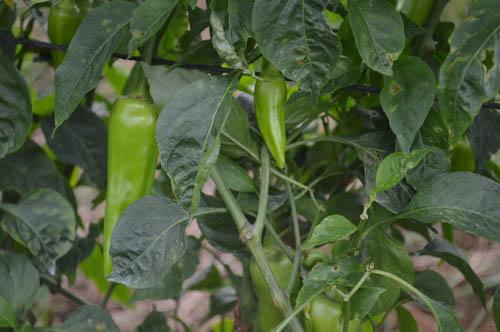ChiliPepper: (96, 100, 158, 286), (247, 258, 297, 332), (256, 74, 290, 170), (44, 9, 78, 73)
